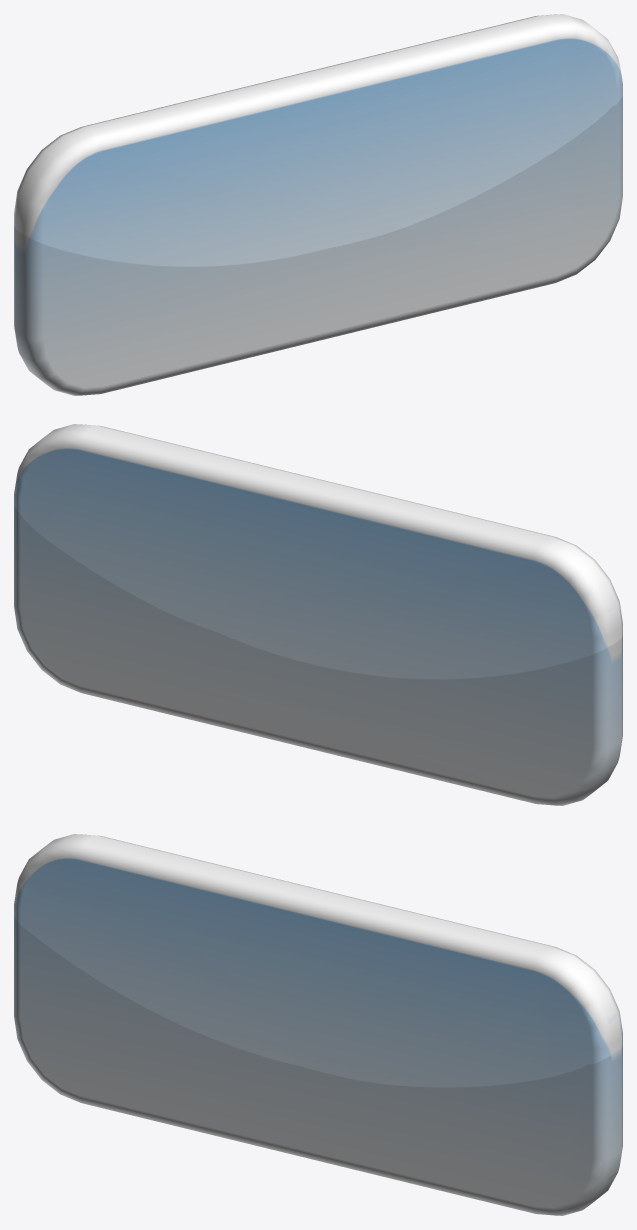
The model's file is Nut.fbx.
3 renders of one model, top to bottom at view 1: azimuth 30°, elevation 25°; view 2: azimuth 150°, elevation 25°; view 3: azimuth 330°, elevation 25°, orthographic.
Parts seen in each view (by area): view 1: Nut; view 2: Nut; view 3: Nut.
Part boxes in pixels (<box>): Nut: <box>14,14,622,395</box>; Nut: <box>14,424,622,805</box>; Nut: <box>14,834,622,1215</box>.
Bounding box in the file's own units: 8.38 × 3.5 × 0.5785.
1 material, 1 textured.
